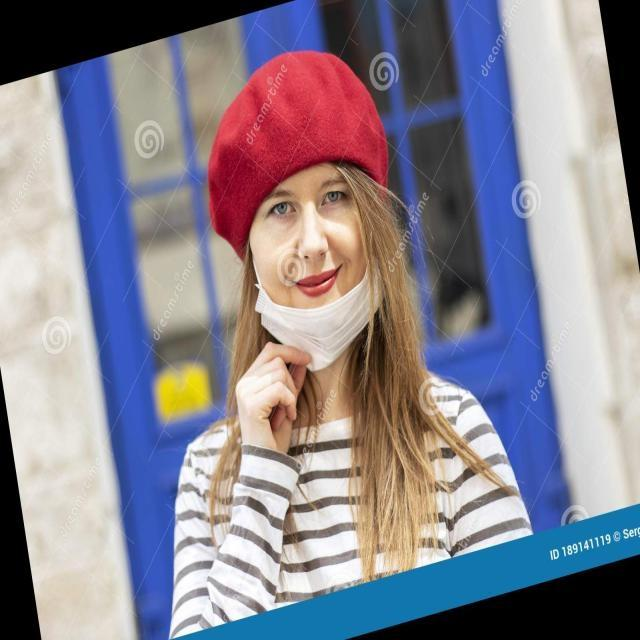hairnet: (246, 167, 382, 362)
